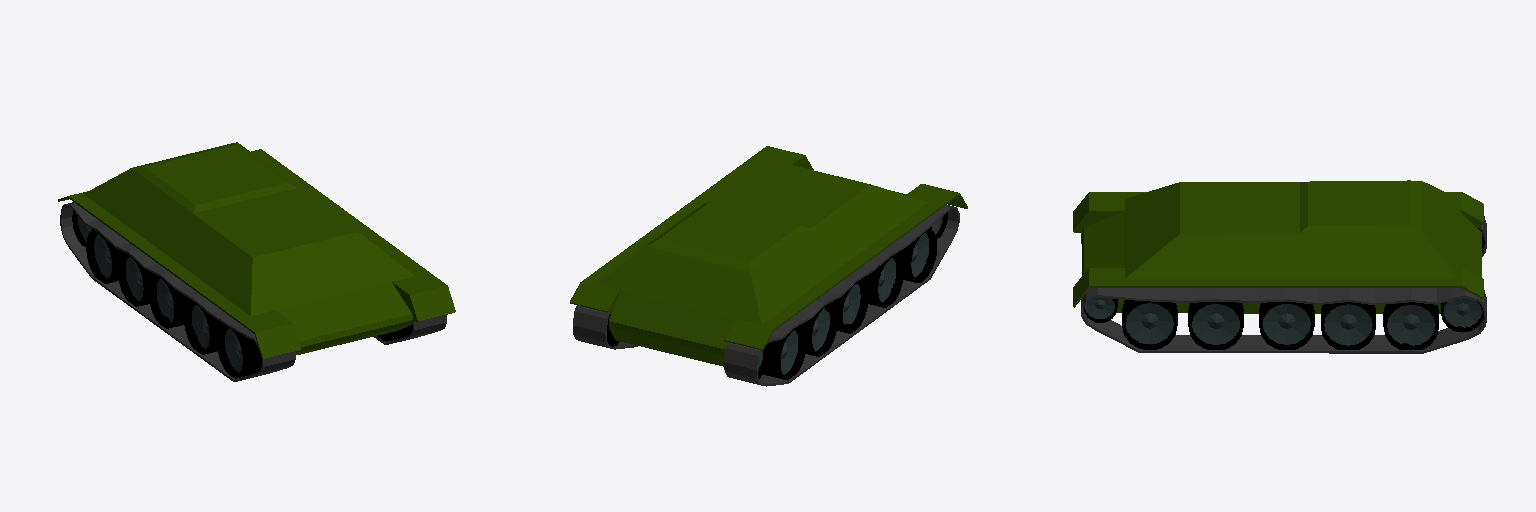
3 views of the same model, side by side, from view 1: azimuth 30°, elevation 25°; view 2: azimuth 150°, elevation 25°; view 3: azimuth 270°, elevation 25° (orthographic).
Parts seen in each view (by area): view 1: t_34; view 2: t_34; view 3: t_34.
Boxes of the visible parts, box(x1,y1,x2,y2) form: t_34: box(58, 142, 455, 381); t_34: box(570, 146, 967, 386); t_34: box(1073, 180, 1486, 353).
Size of the model in its own units: 5.3 by 2.78 by 9.88.
Materials: 1 (1 with a texture image).